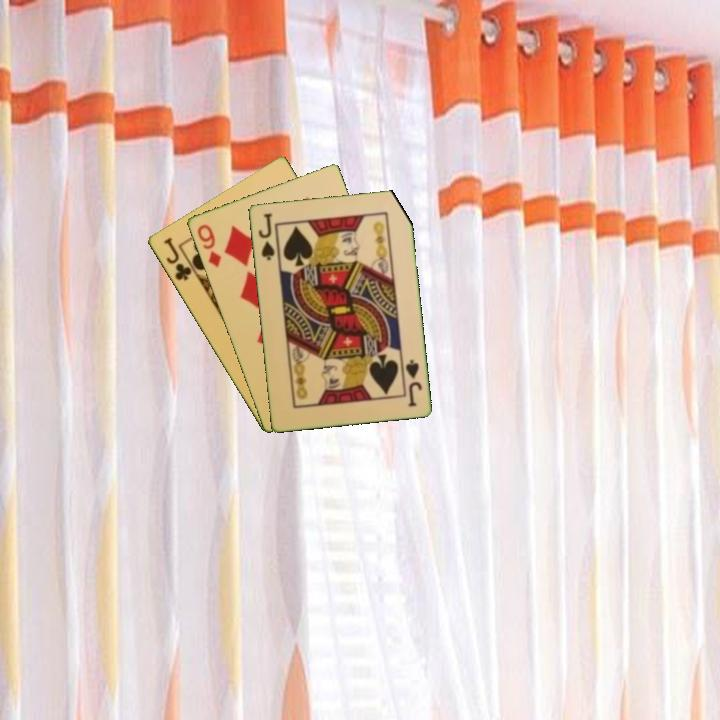9d: (193, 221, 224, 271)
Jc: (159, 234, 194, 284)
Js: (255, 209, 277, 263), (402, 356, 424, 409)
